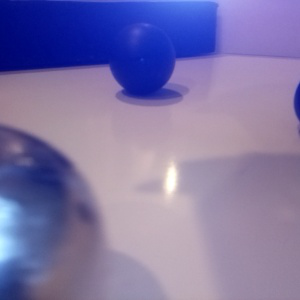alive_ball: (1, 122, 101, 300)
dead_ball: (107, 23, 176, 92)
